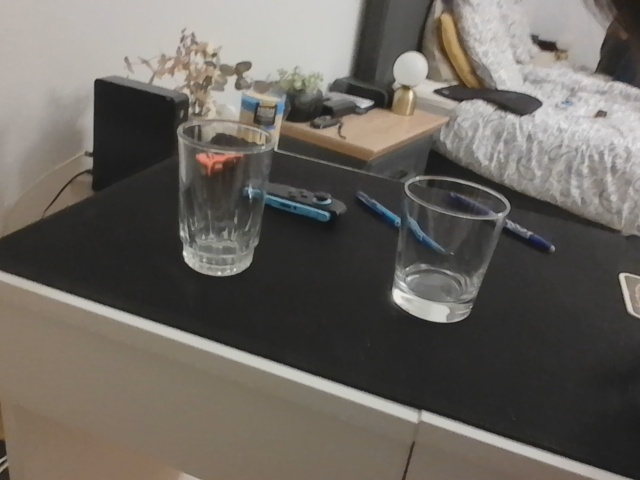glass: (389, 169, 515, 330), (169, 117, 275, 277)
joycon: (243, 180, 348, 218), (190, 146, 250, 174)
pen: (356, 188, 454, 259), (446, 189, 556, 252)
